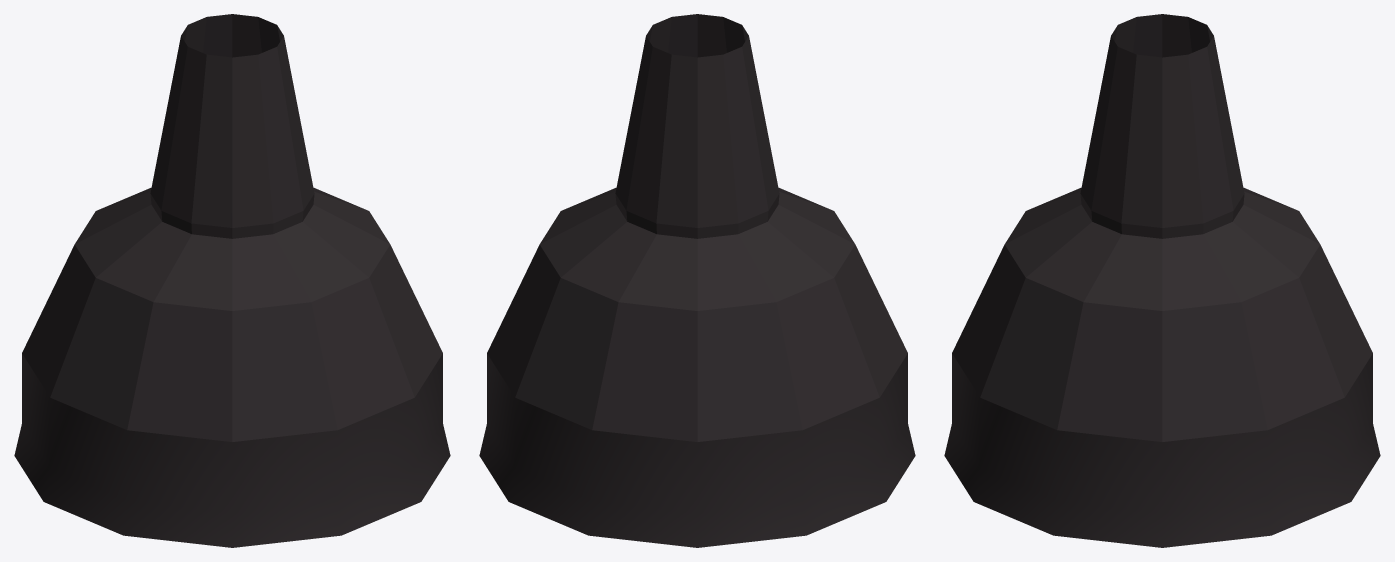
Rendered from SM_lamp_head.fbx.
3 views of the same model, side by side, from view 1: azimuth 30°, elevation 25°; view 2: azimuth 150°, elevation 25°; view 3: azimuth 270°, elevation 25° (orthographic).
Parts seen in each view (by area): view 1: lamp_head; view 2: lamp_head; view 3: lamp_head.
Boxes of the visible parts, box(x1,y1,x2,y2) form: lamp_head: box(14, 14, 450, 547); lamp_head: box(479, 14, 915, 547); lamp_head: box(944, 14, 1380, 547).
Size of the model in its own units: 46.56 by 49.47 by 46.56.
